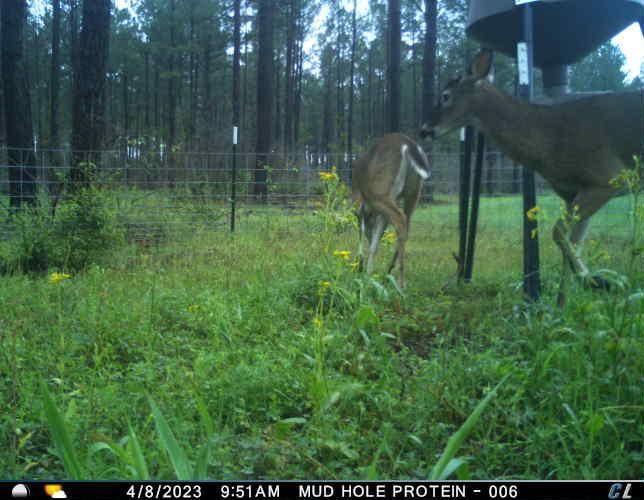Deer: (418, 49, 644, 314), (349, 132, 432, 290)
